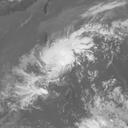cyclone: (40, 34, 95, 78)
